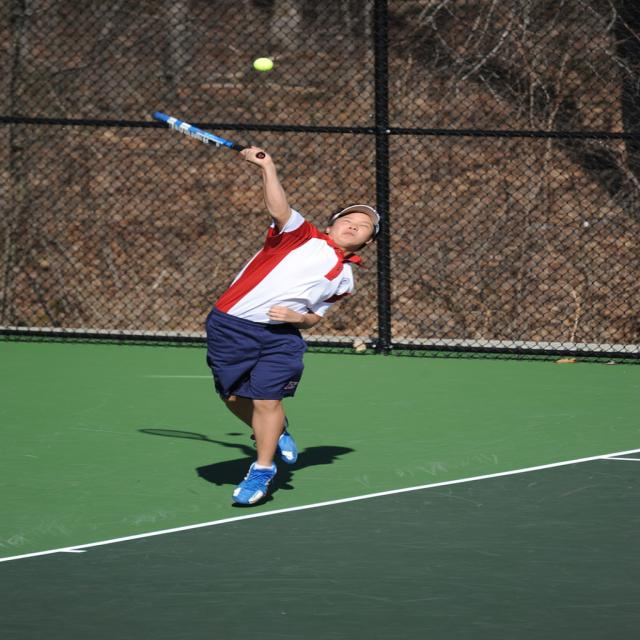Tennis ball: (250, 54, 276, 72)
